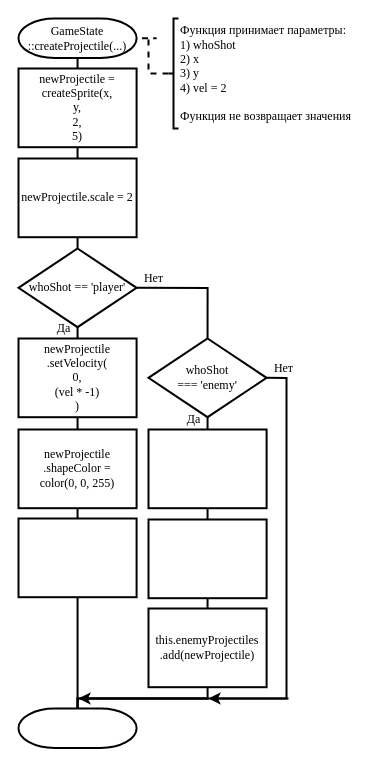
Image size: 368x766. Some labels were removed from this diagram. Each missing label, with the box of its shape:
newProjectile .addImage( redLaserImg, 'enemy laser' ): (147, 518, 267, 599)
newProjectile .setVelocity(0, vel): (147, 428, 267, 509)
this.playerProjectiles .add(newProjectile): (17, 517, 137, 598)
Конец: (17, 707, 137, 748)
